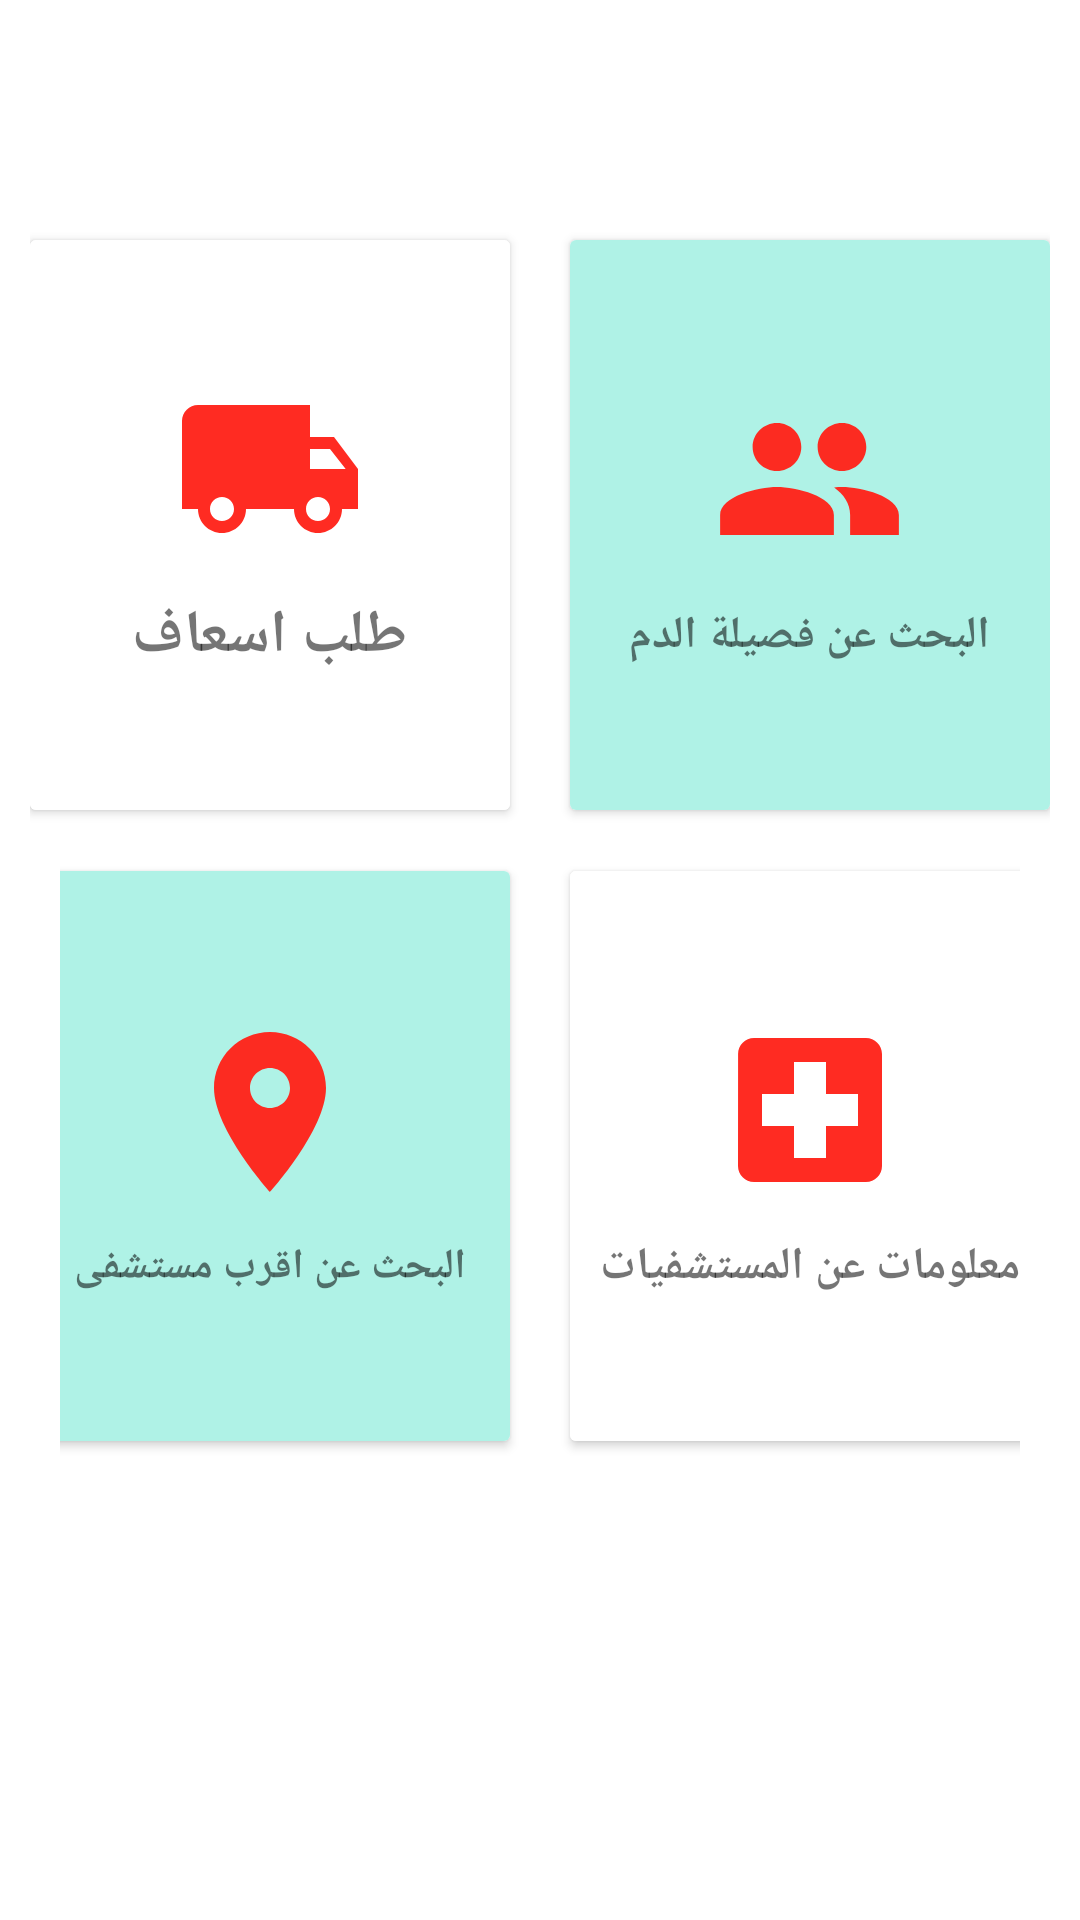

Screen size 1080*1920. Icon name, then its center in pixels as point (x, y):
local hospital: point (810, 1110)
local shipping: point (270, 469)
place: point (270, 1112)
